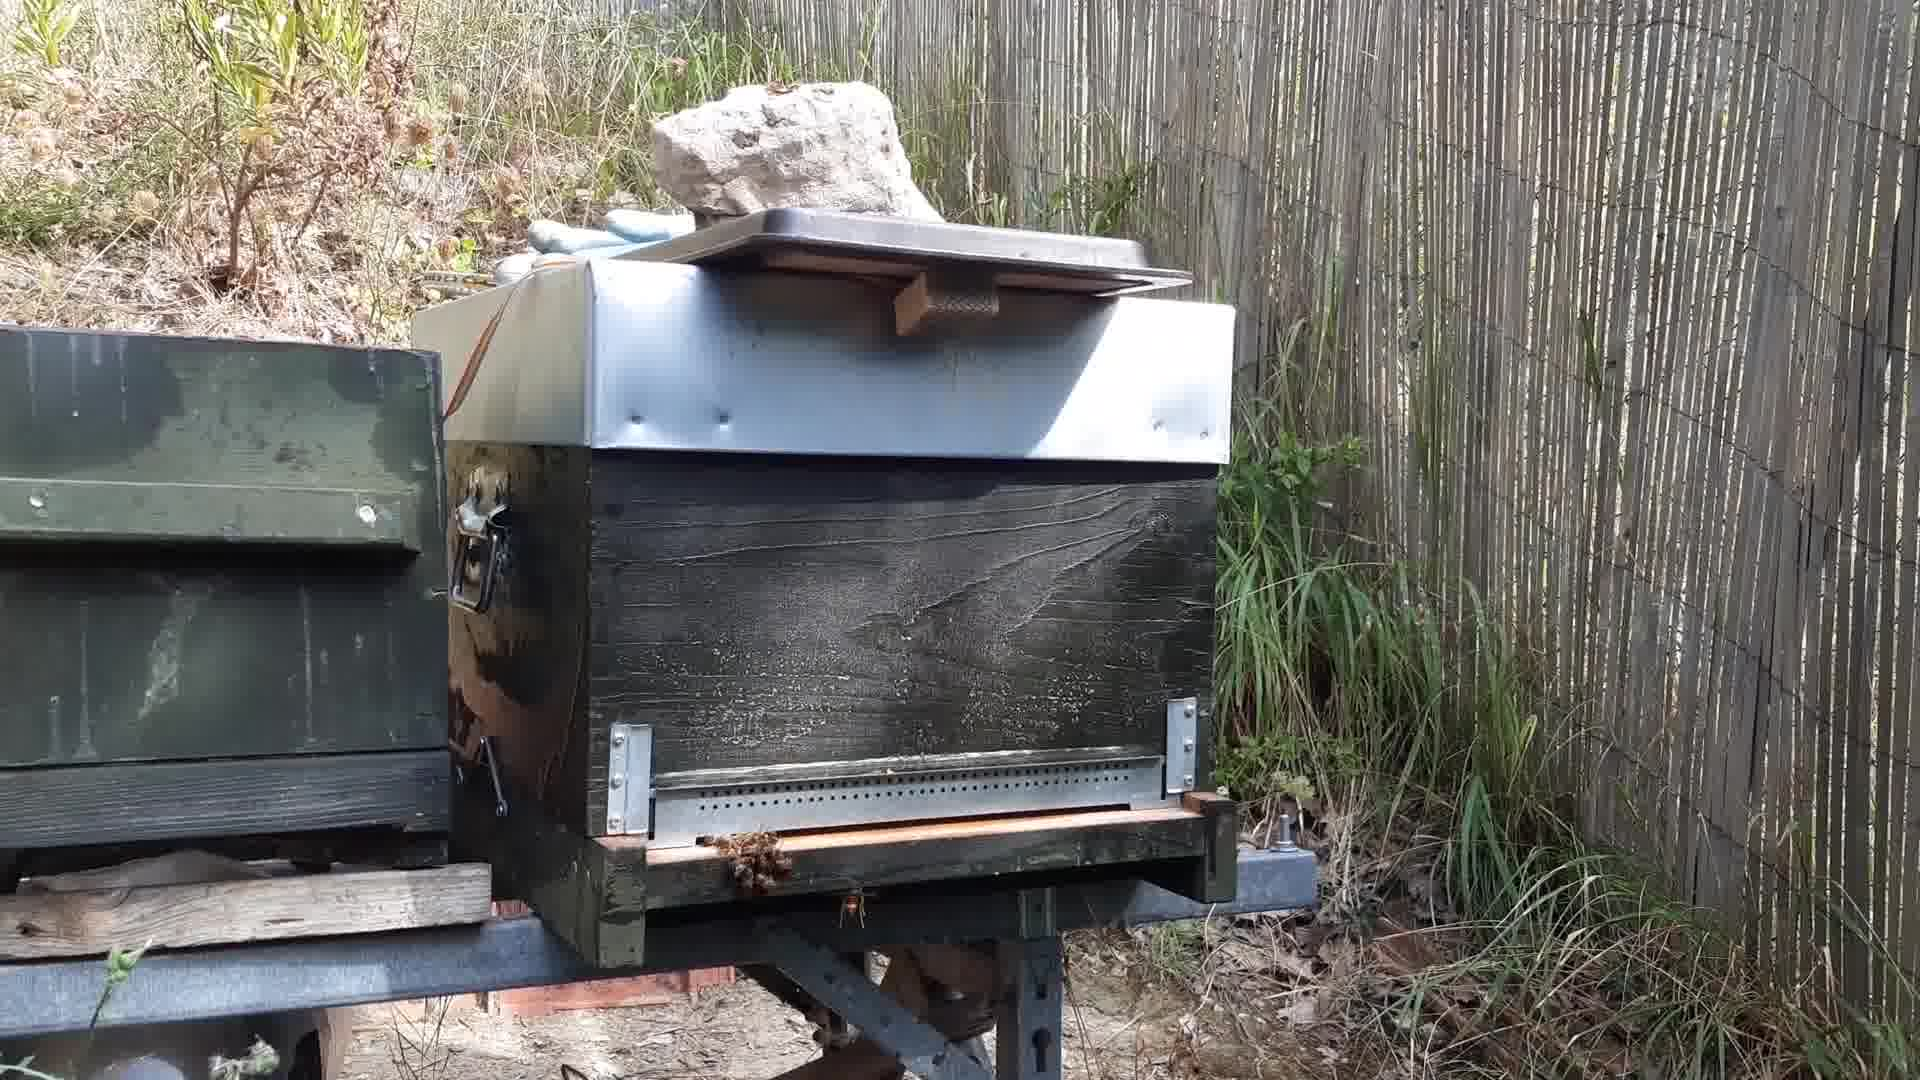bee: (713, 828, 798, 895)
hornet: (840, 884, 872, 930)
